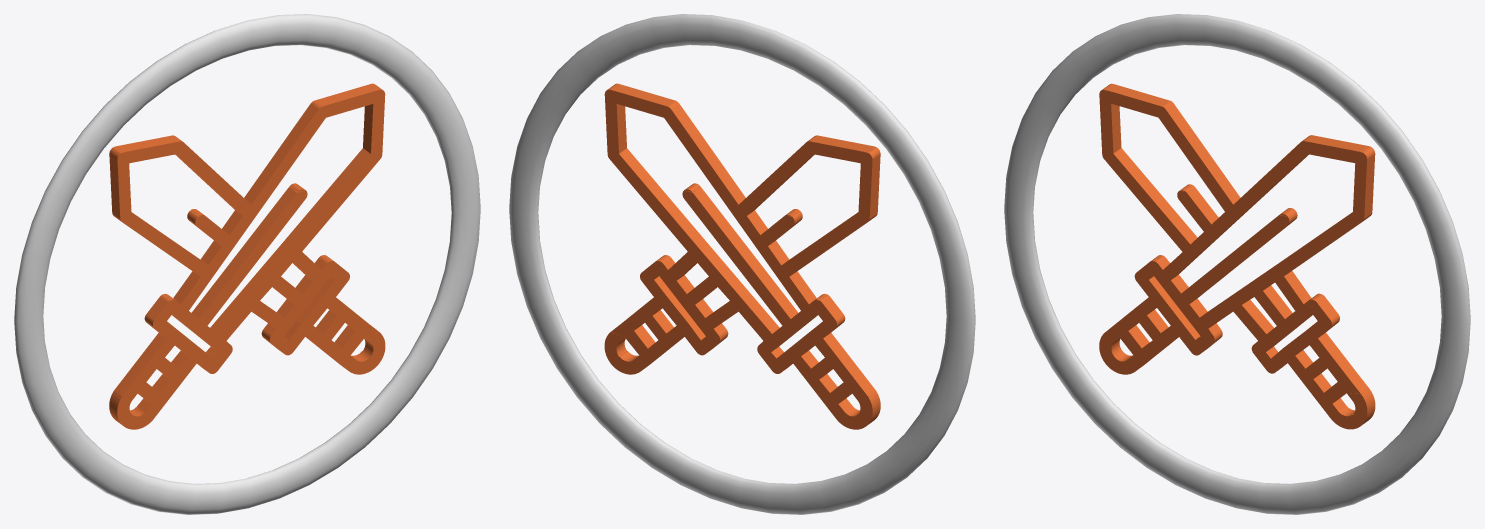
File: attckItem.fbx
The picture shows the model from 3 angles, left to right: view 1: azimuth 30°, elevation 25°; view 2: azimuth 150°, elevation 25°; view 3: azimuth 330°, elevation 25°; orthographic projection.
Parts seen in each view (by area): view 1: RIng, attackItem; view 2: RIng, attackItem; view 3: RIng, attackItem.
Part boxes in pixels (<box>): RIng: <box>14,14,480,514</box>; attackItem: <box>109,83,385,429</box>; RIng: <box>509,14,975,514</box>; attackItem: <box>604,83,880,429</box>; RIng: <box>1004,14,1470,514</box>; attackItem: <box>1099,83,1375,429</box>.
Bounding box in the file's own units: 200 × 200 × 6.
